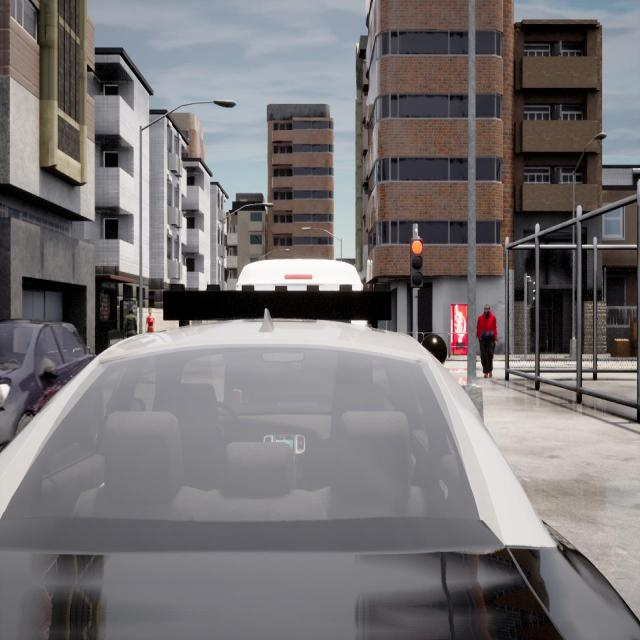Pedestrian: (477, 305, 497, 377), (126, 308, 138, 337), (146, 307, 156, 333)
Vehicle: (0, 320, 640, 638), (0, 322, 95, 446), (236, 260, 363, 290)
traffic_light: (410, 239, 422, 287), (527, 281, 535, 305)
